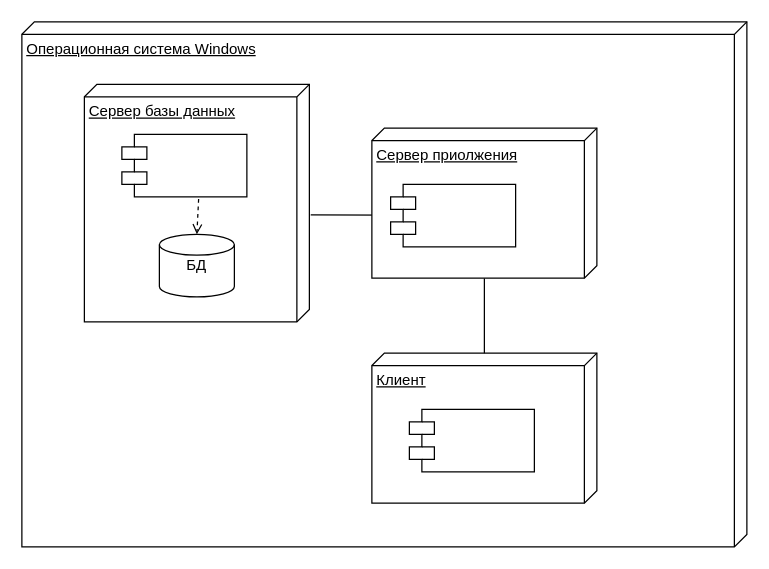
This 769x569 diagram has some shape labels left out. Each missing label, with the centre of its shape:
"База данных" belongs at point 184,165.
"Веб браузер" belongs at point 471,440.
"Веб сервер" belongs at point 452,215.
